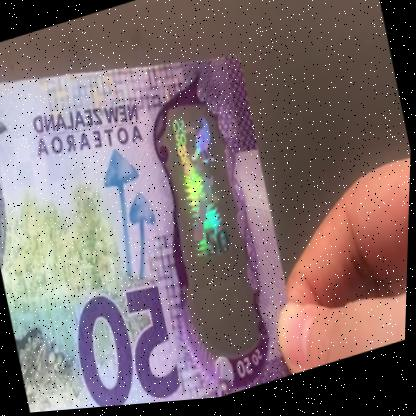50B: (157, 103, 262, 351)
